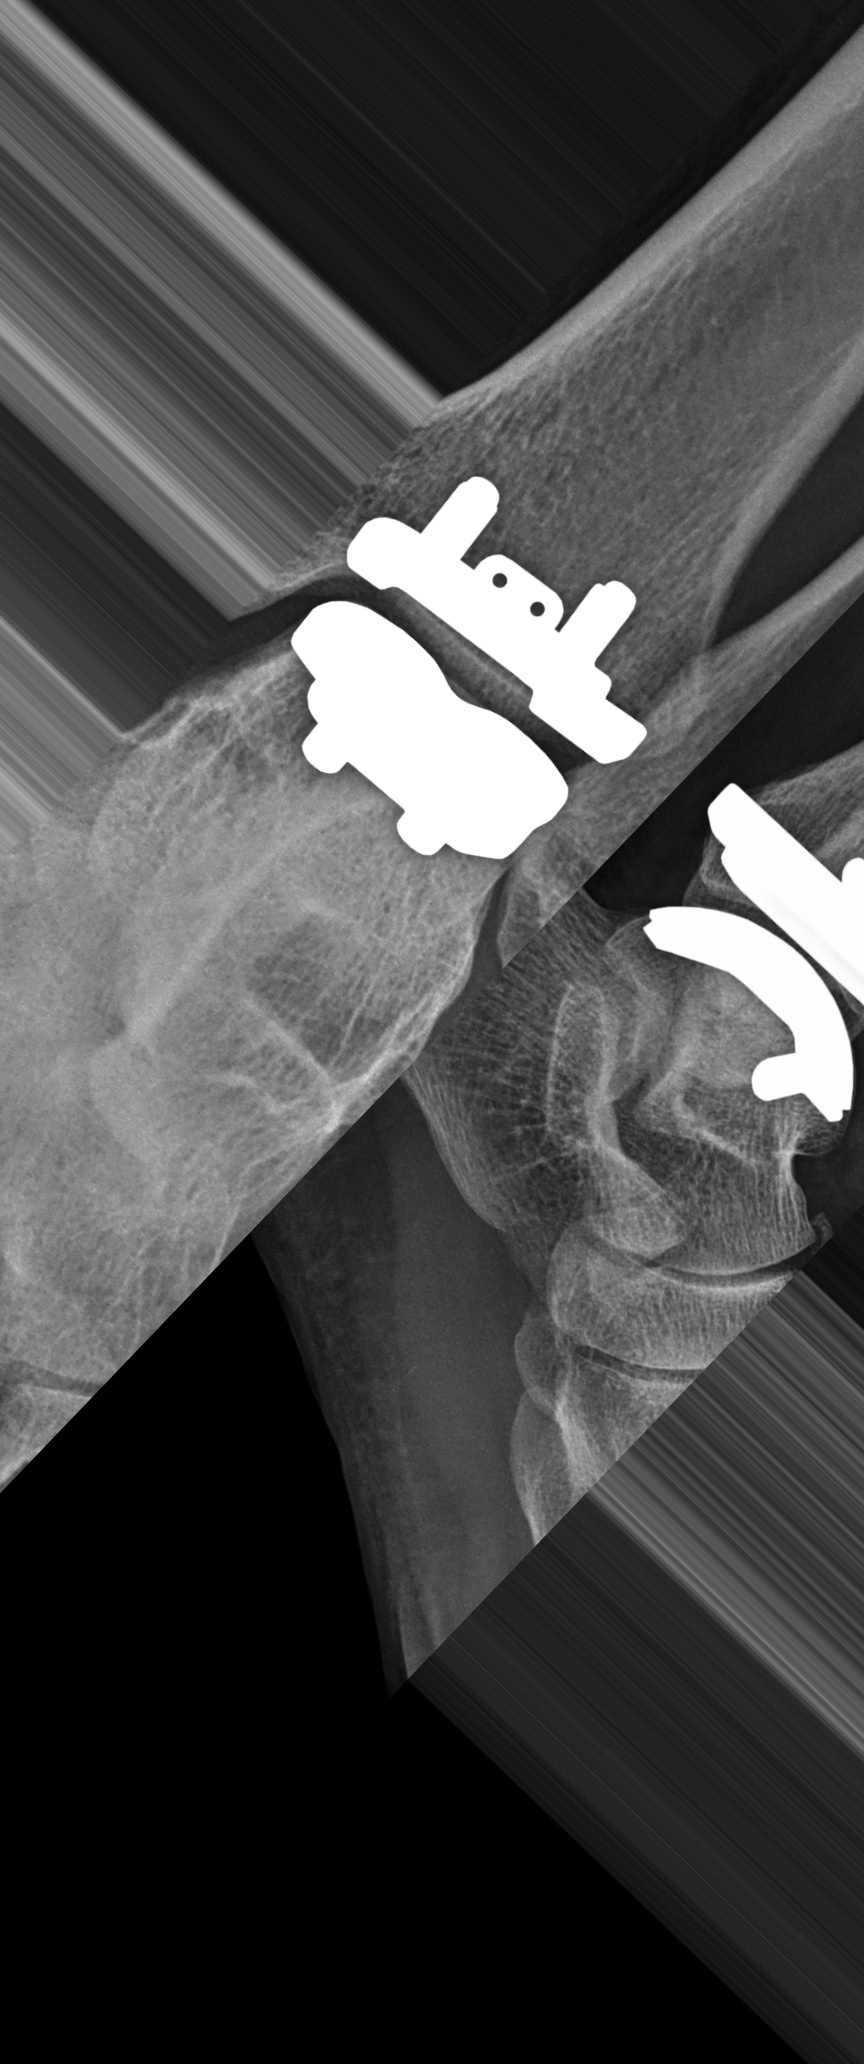Cadence-Integra: (265, 461, 657, 882), (641, 771, 864, 1129)
